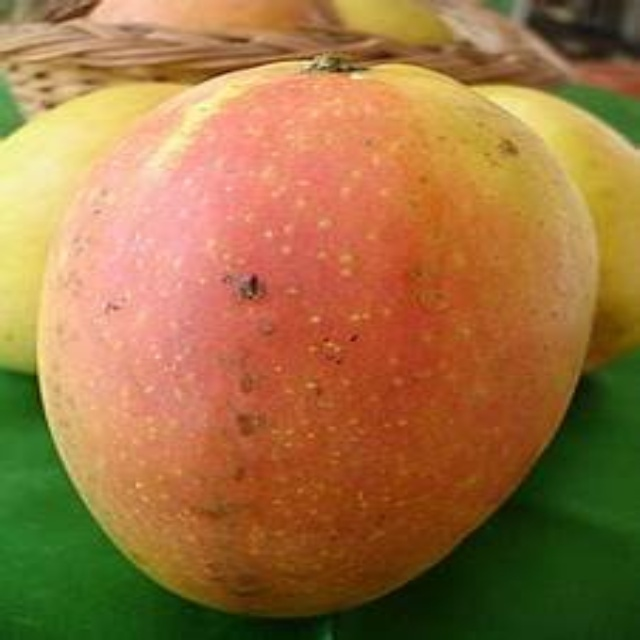mango: (63, 51, 589, 609)
